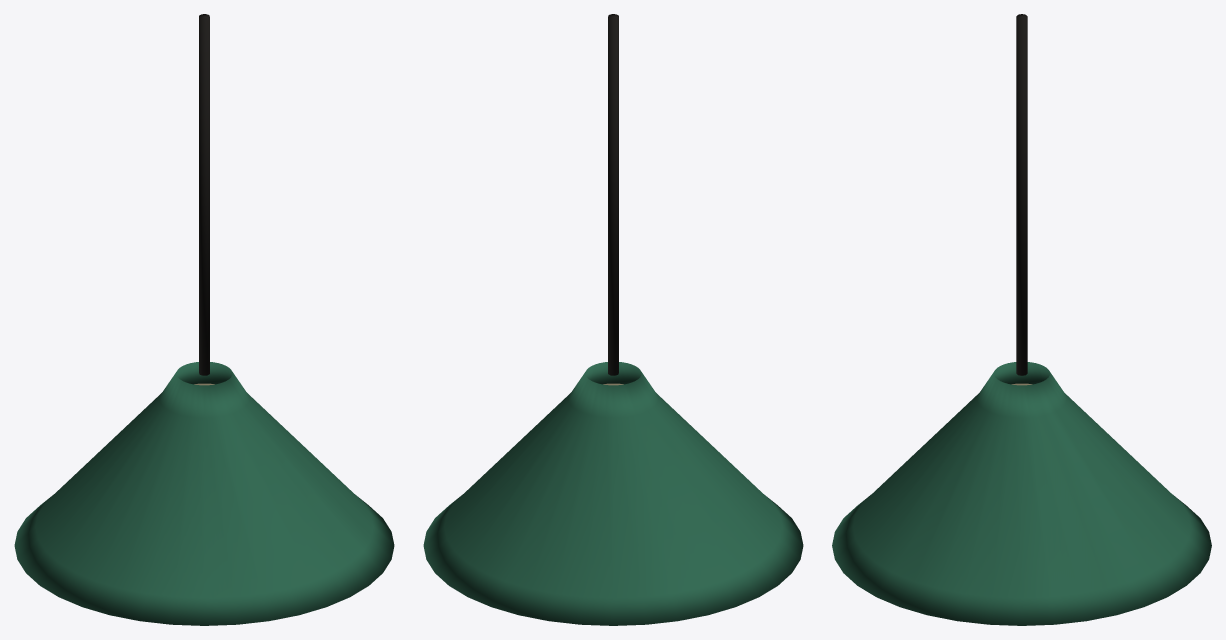
File: prop_lampara.glb
3 views of the same model, side by side, from view 1: azimuth 30°, elevation 25°; view 2: azimuth 150°, elevation 25°; view 3: azimuth 270°, elevation 25° (orthographic).
Visible parts, largest first — view 1: prop_lampara; view 2: prop_lampara; view 3: prop_lampara.
Part boxes in pixels (left/top/right/bottom): prop_lampara: left=14, top=14, right=394, bottom=625; prop_lampara: left=423, top=14, right=803, bottom=625; prop_lampara: left=832, top=14, right=1211, bottom=625.
Size of the model in its own units: 0.27 by 0.43 by 0.27.
